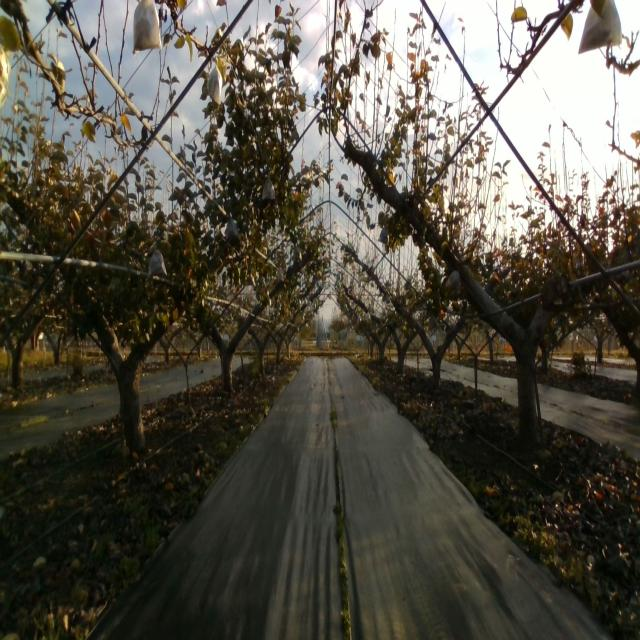pearbags: (578, 0, 622, 54), (132, 0, 162, 55), (206, 56, 223, 105), (147, 244, 168, 278), (224, 212, 238, 241), (262, 173, 276, 201), (445, 269, 460, 292), (378, 224, 389, 246)
